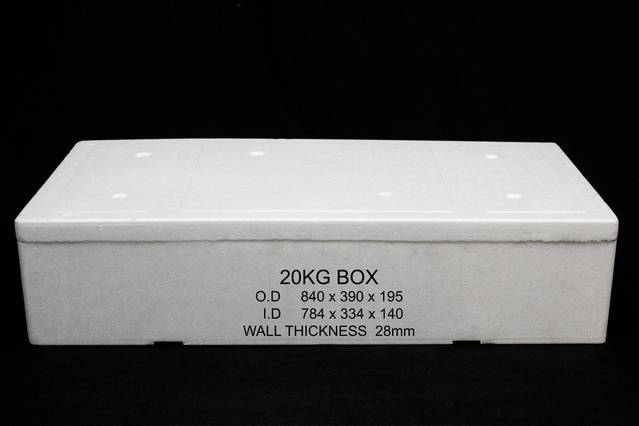泡沫箱: (15, 139, 616, 344)
